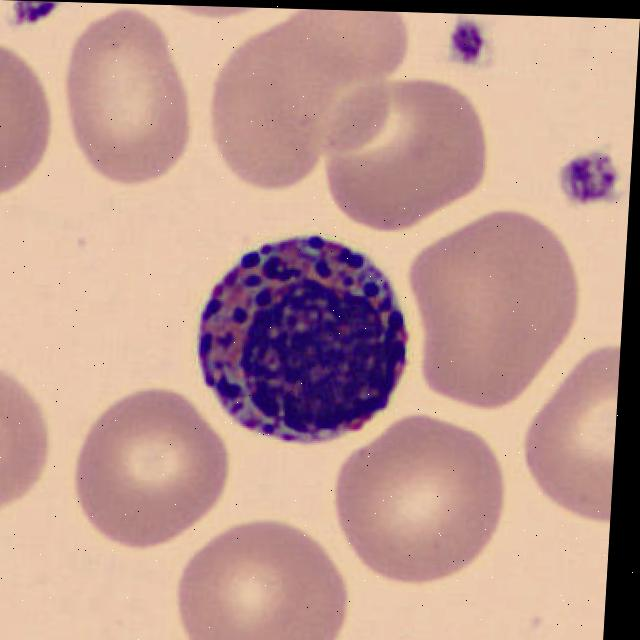basophil: (187, 239, 420, 440)
platelets: (543, 141, 629, 217), (437, 13, 507, 91), (6, 0, 60, 34)
rbc: (398, 218, 587, 411), (330, 422, 518, 593), (208, 14, 397, 172), (69, 380, 236, 549), (60, 22, 211, 194), (325, 87, 492, 238), (505, 341, 621, 551), (173, 533, 351, 640), (0, 50, 66, 226), (0, 365, 61, 524)
